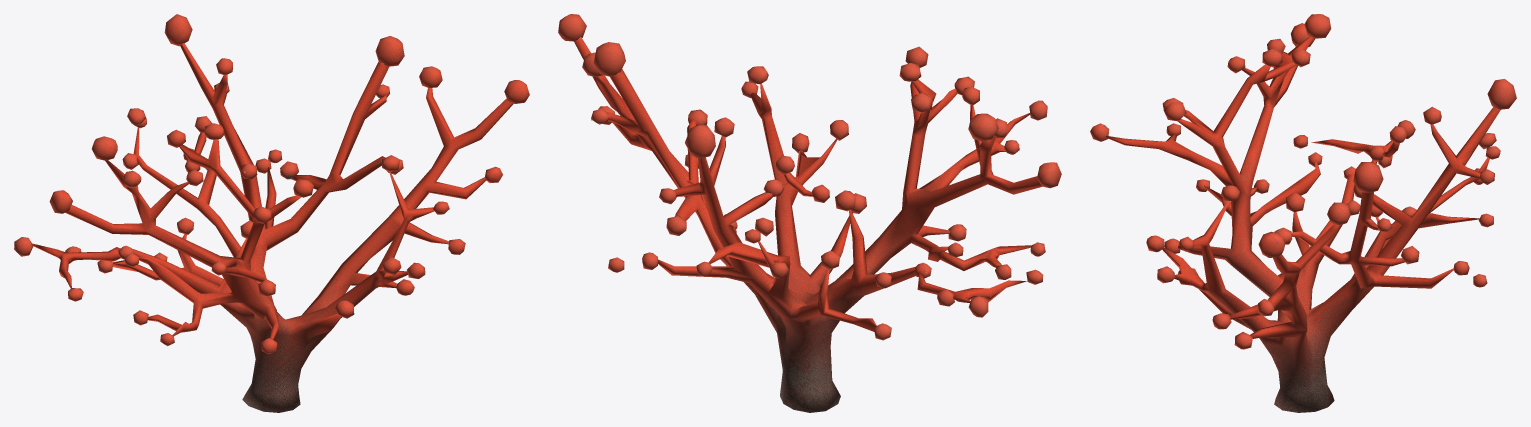
Rendered from coral-branch.glb.
3 views of the same model, side by side, from view 1: azimuth 30°, elevation 25°; view 2: azimuth 150°, elevation 25°; view 3: azimuth 270°, elevation 25° (orthographic). The views are drawn at different scales.
Size of the model in its own units: 1 by 0.6599 by 0.7883.
1 material, 1 textured.
